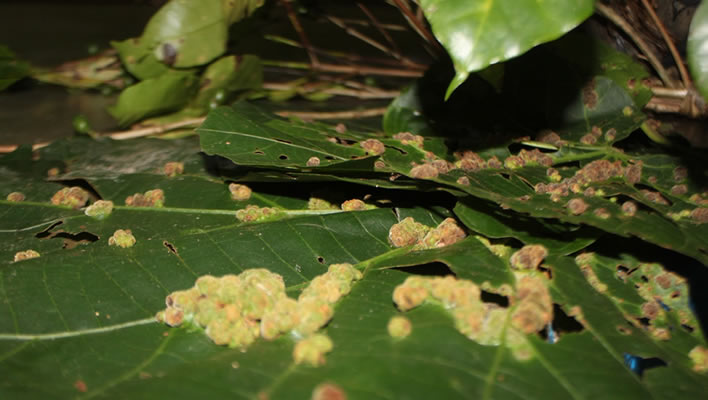roya: (60, 160, 687, 378)
